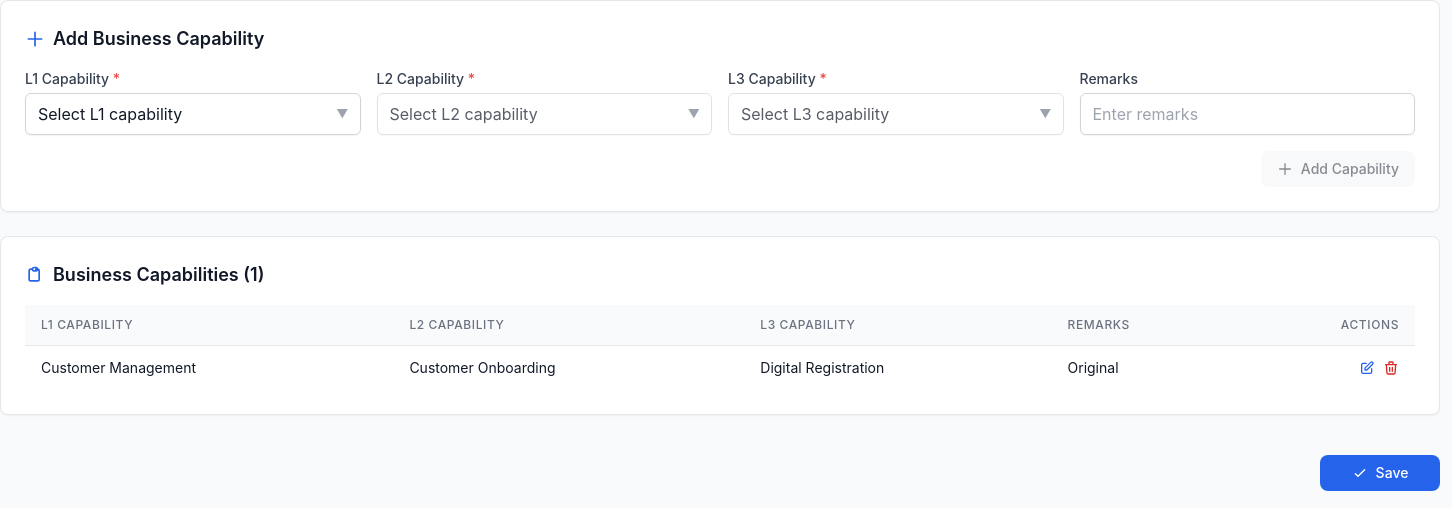
it: BusinessCapabilitiesStep › Edit Capability Functionality › saves edits when save button clicked
# Enter edit mode
Click the button titled "Edit" at (1367, 368), box [1359,360,1375,376]
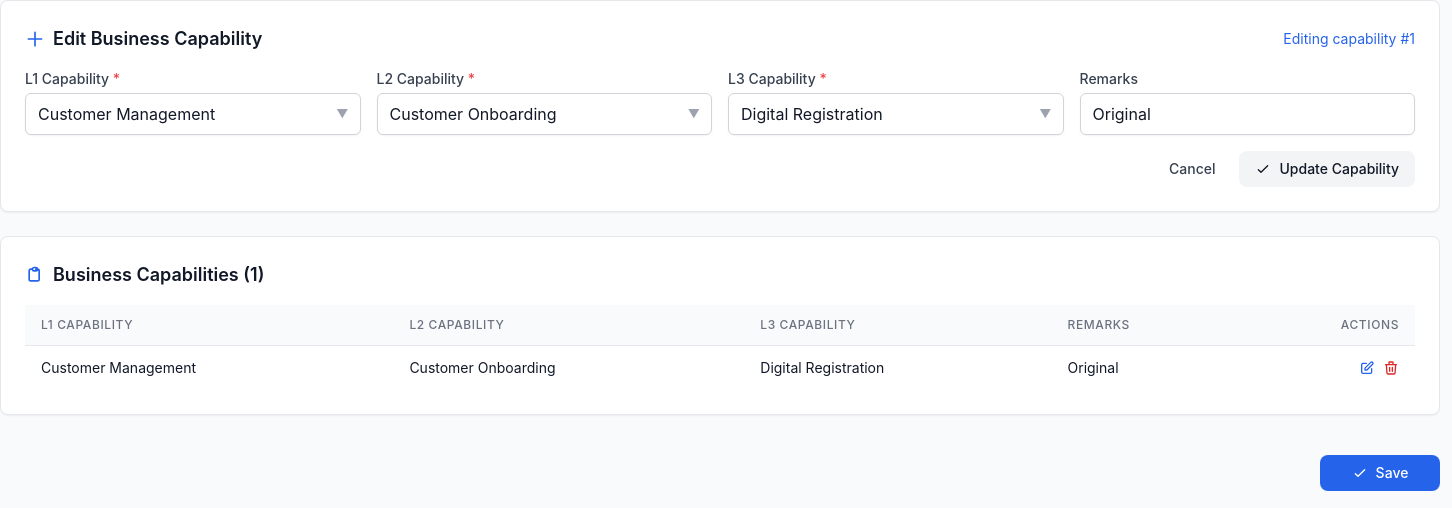
Expected: the text "Edit Business Capability" is shown, [25,25,262,53]
# Update remarks
Replace the text in the field with "Updated remarks" at (1247, 114), box [1080,93,1415,135]
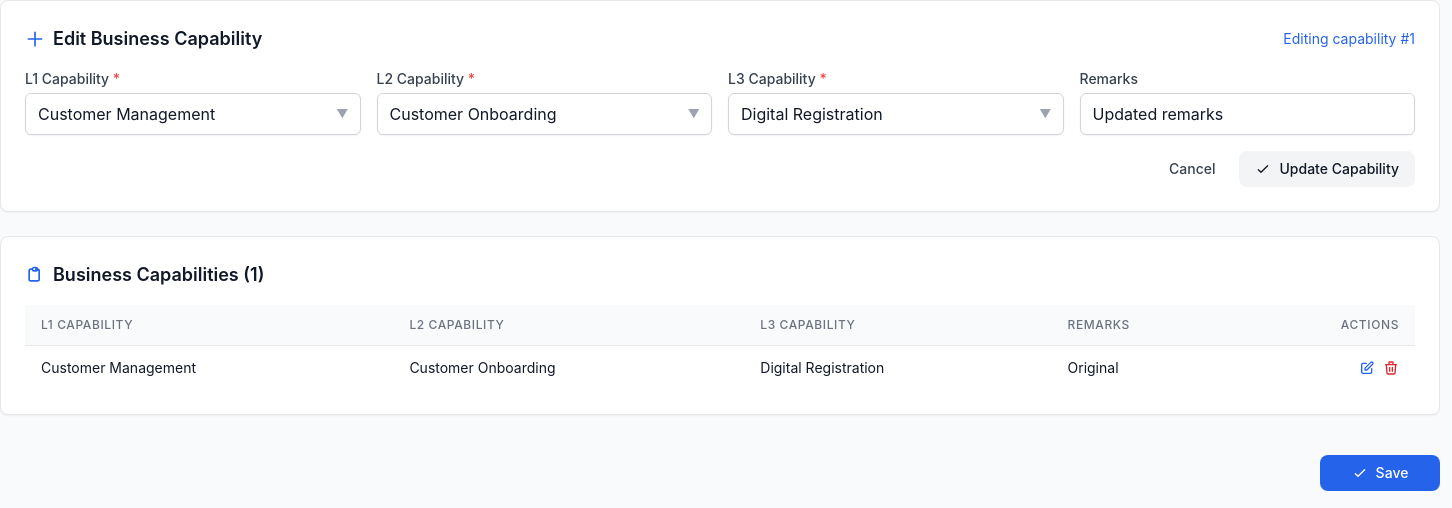
# Click update button
Click the button "Update Capability" at (1327, 169), box [1240,151,1415,187]
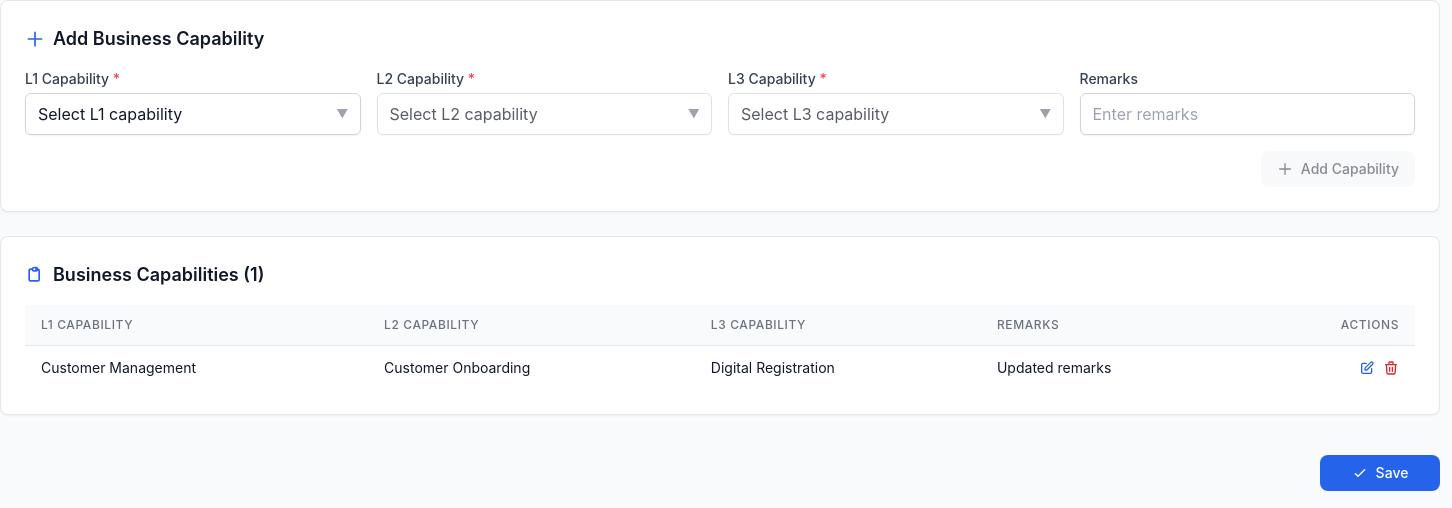
Expected: the text "Updated remarks" is shown, [981,346,1250,390]
Expected: the text "Edit Business Capability" is gone
